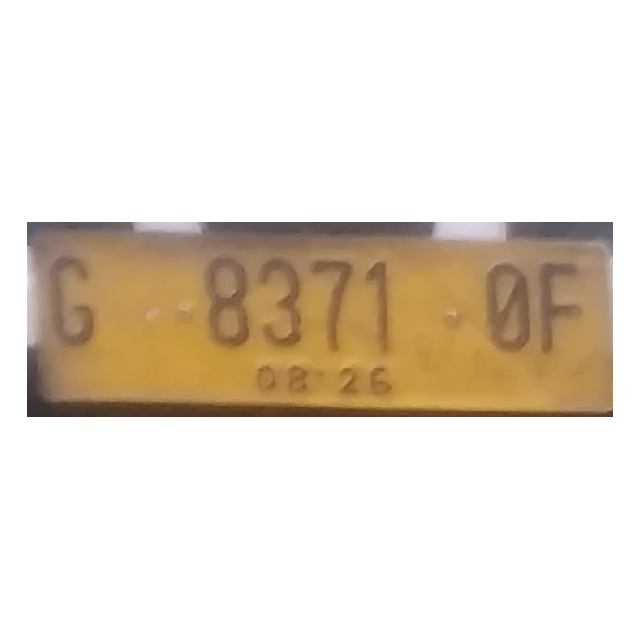contain: (355, 247, 414, 360), (535, 259, 594, 367), (254, 246, 310, 350), (483, 255, 536, 360), (201, 246, 253, 350), (307, 248, 357, 355), (44, 250, 97, 347)
